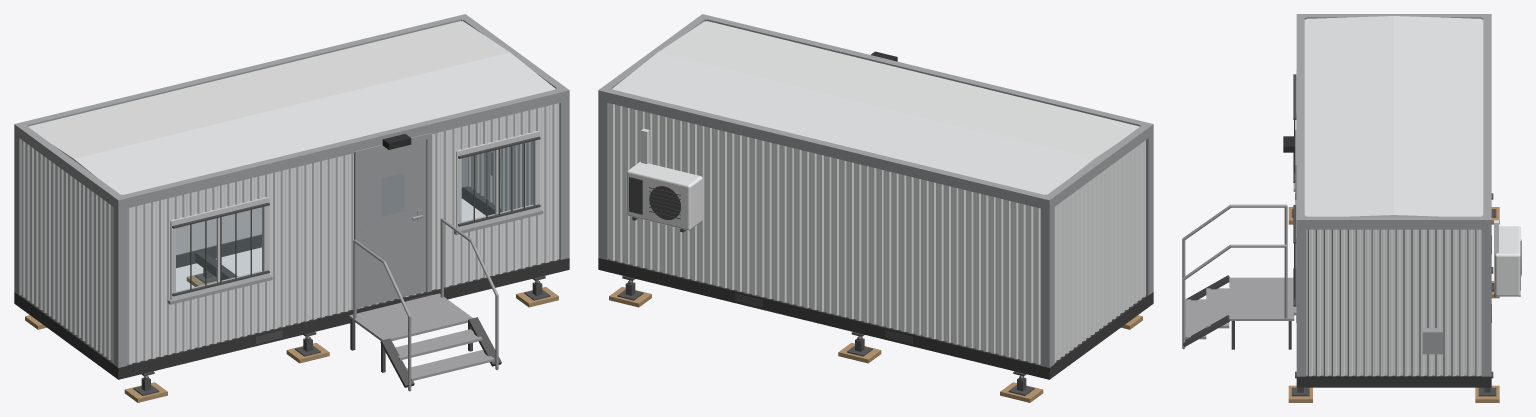
The model's file is site_office_trailer.glb.
3 views of the same model, side by side, from view 1: azimuth 30°, elevation 25°; view 2: azimuth 150°, elevation 25°; view 3: azimuth 270°, elevation 25° (orthographic). The views are drawn at different scales.
Visible parts, largest first — view 1: cabin, door_rotate, steps, base_frame, jacks; view 2: cabin, base_frame, jacks; view 3: cabin, steps, base_frame, jacks.
Boxes of the visible parts, x1,y1,x2,y2 form: cabin: [14, 14, 569, 367]; door_rotate: [360, 139, 426, 307]; steps: [349, 218, 501, 391]; base_frame: [14, 186, 569, 379]; jacks: [25, 259, 558, 402]; cabin: [598, 14, 1153, 367]; base_frame: [598, 258, 1153, 379]; jacks: [609, 276, 1142, 402]; cabin: [1283, 14, 1521, 376]; steps: [1182, 204, 1294, 349]; base_frame: [1296, 235, 1491, 387]; jacks: [1288, 193, 1499, 402].
Size of the model in its own units: 6.1 by 2.6 by 4.18.
10 materials, 10 textured.
